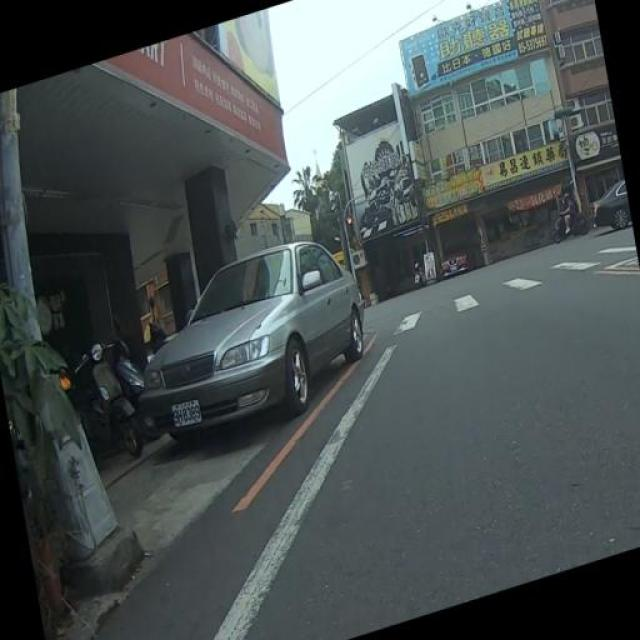illegalparking: (77, 209, 367, 494)
